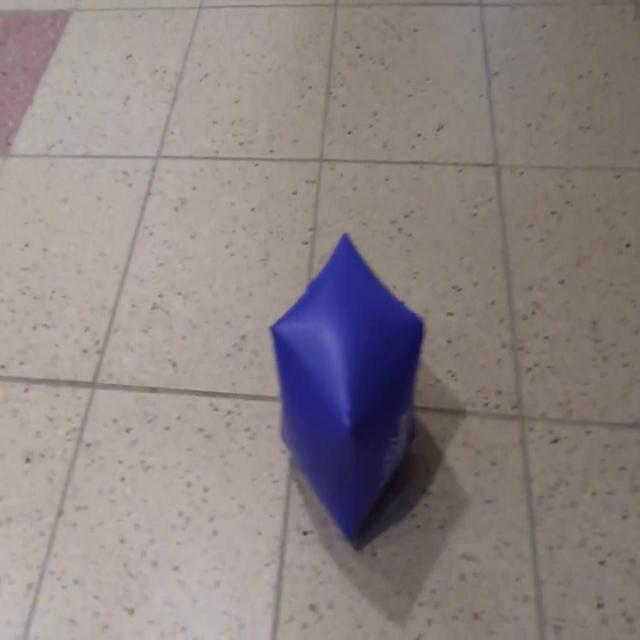frc_cube: (270, 233, 425, 540)
